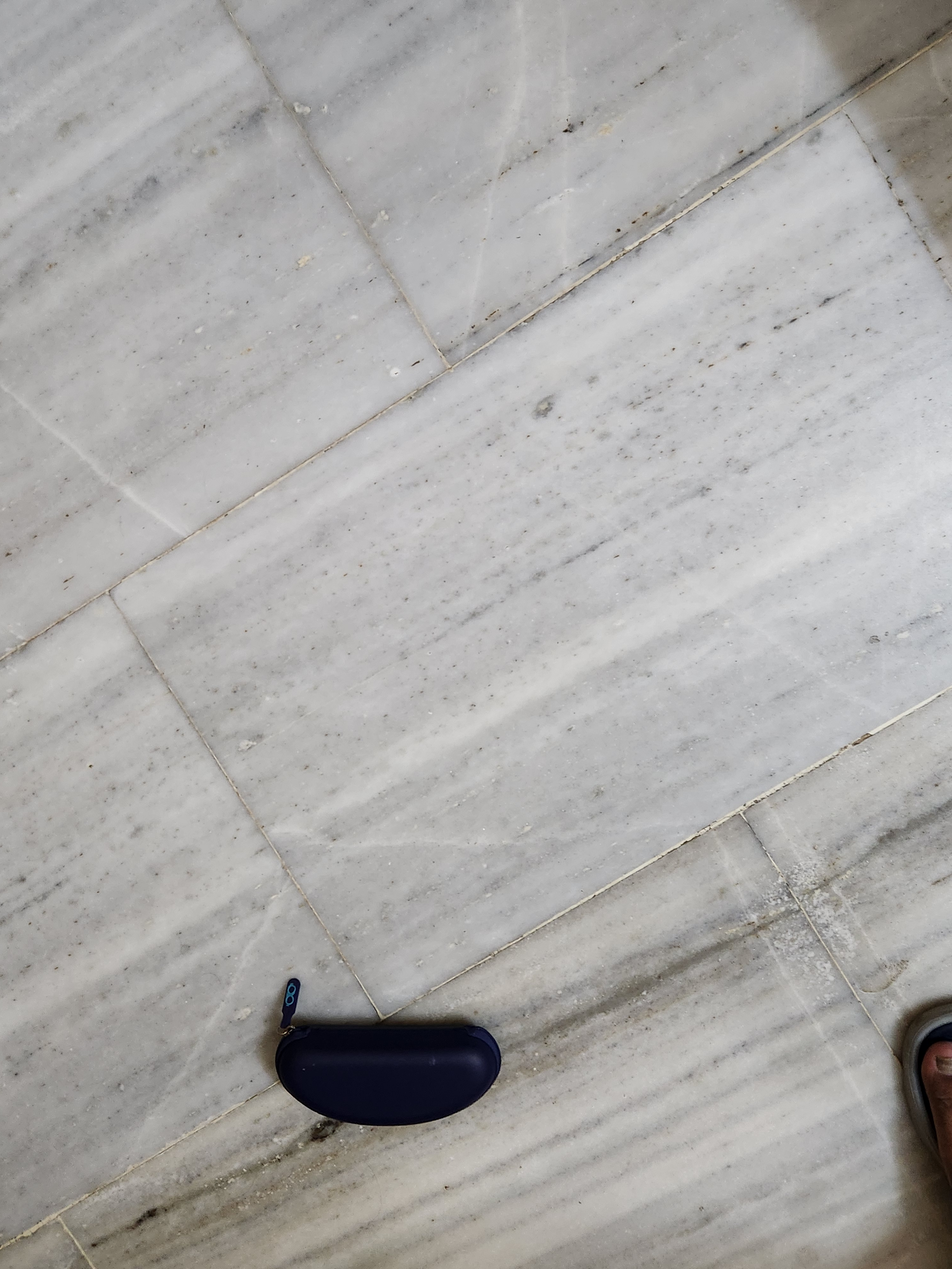case: (260, 975, 506, 1132)
